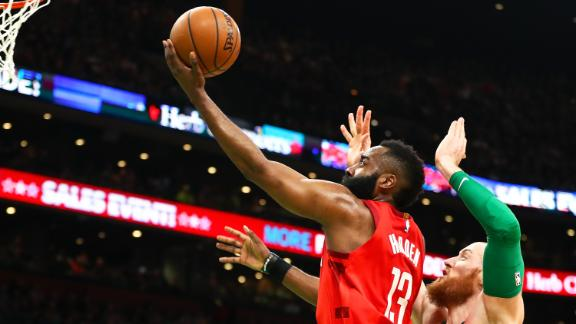Basketball: (169, 3, 241, 77)
